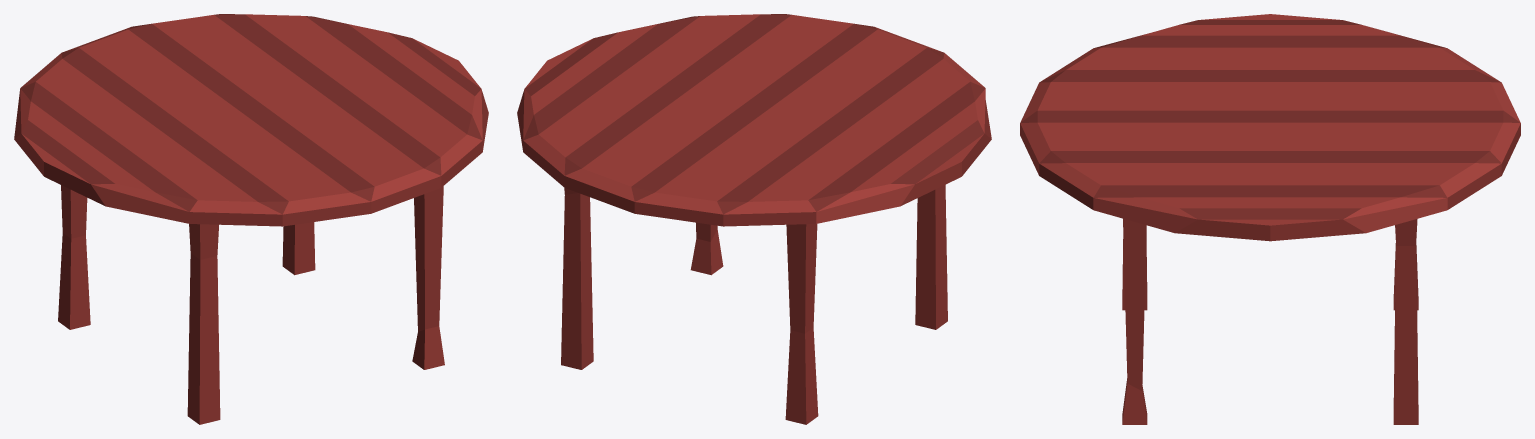
File: Table_2_Red.fbx
3 views of the same model, side by side, from view 1: azimuth 30°, elevation 25°; view 2: azimuth 150°, elevation 25°; view 3: azimuth 270°, elevation 25° (orthographic). The views are drawn at different scales.
Parts seen in each view (by area): view 1: Table_2_Red_Part_1, Table_2_Red_Part_2; view 2: Table_2_Red_Part_1, Table_2_Red_Part_2; view 3: Table_2_Red_Part_1, Table_2_Red_Part_2.
Boxes of the visible parts, x1,y1,x2,y2 form: Table_2_Red_Part_1: (14, 14, 488, 424); Table_2_Red_Part_2: (20, 14, 482, 214); Table_2_Red_Part_1: (517, 14, 991, 424); Table_2_Red_Part_2: (523, 14, 985, 214); Table_2_Red_Part_1: (1020, 14, 1520, 424); Table_2_Red_Part_2: (1020, 20, 1520, 219).
Size of the model in its own units: 240 by 130 by 240.
